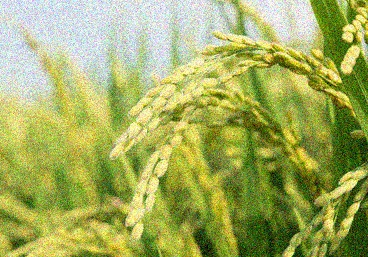rice: (104, 17, 351, 239)
